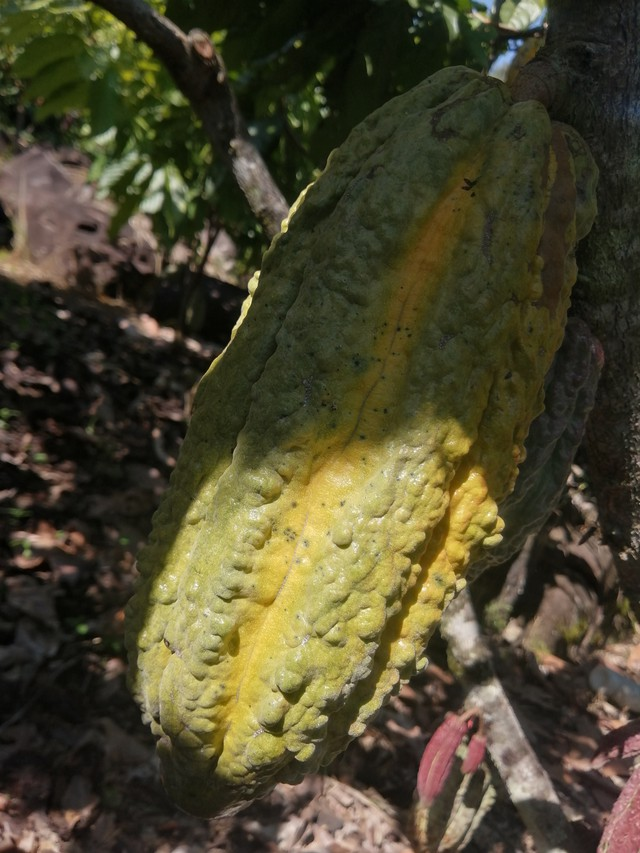Health: (103, 53, 610, 829)
